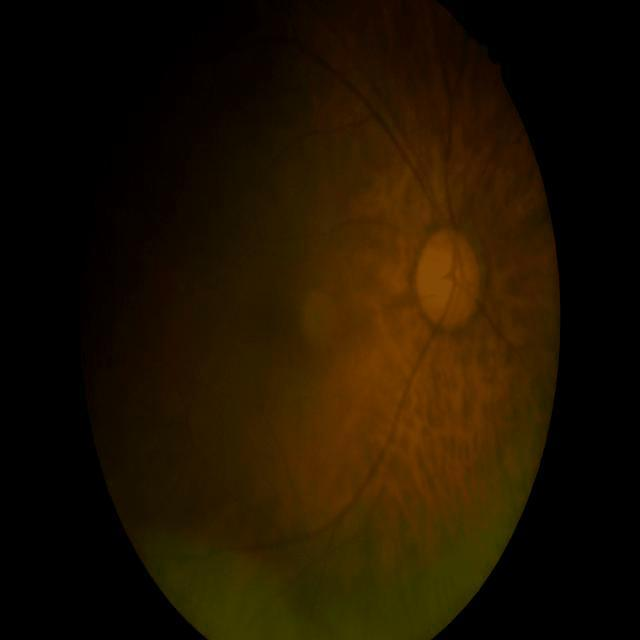cup: (436, 253, 469, 309)
disk: (414, 229, 484, 331)
